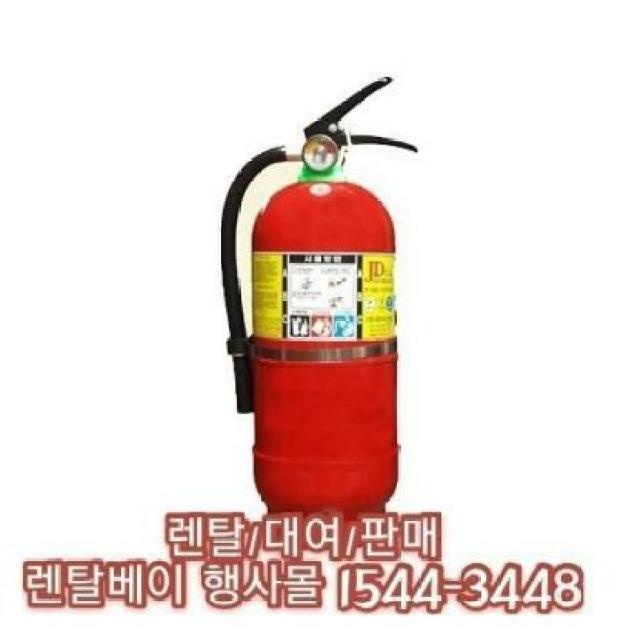fire extinguisher: (218, 76, 418, 515)
